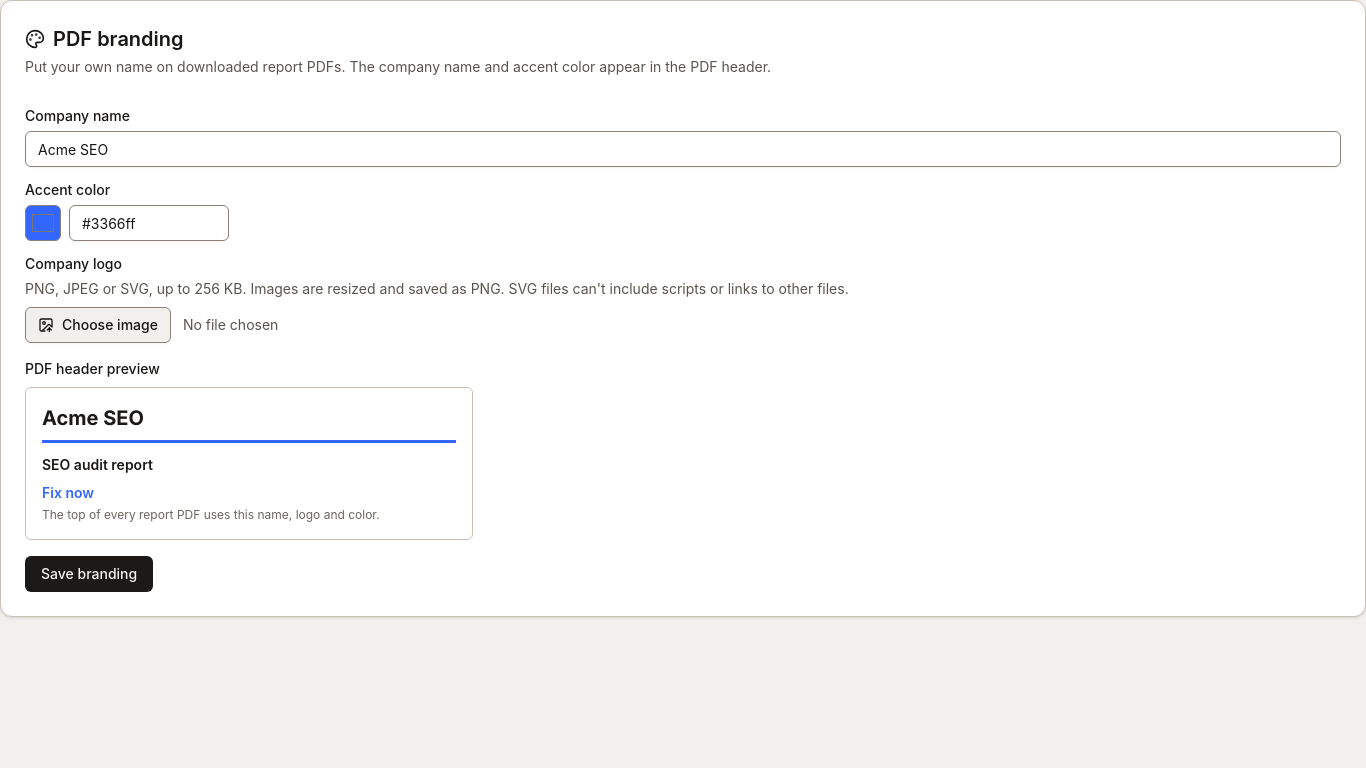
Test case: BrandingPanel › validates the accent color before submitting
Expected: the field showing "Acme SEO" is shown, x1=25 y1=131 x2=1341 y2=167
Replace the text in the field labelled "Accent color" with "#zzz" at [149, 223], box x1=69 y1=205 x2=229 y2=241
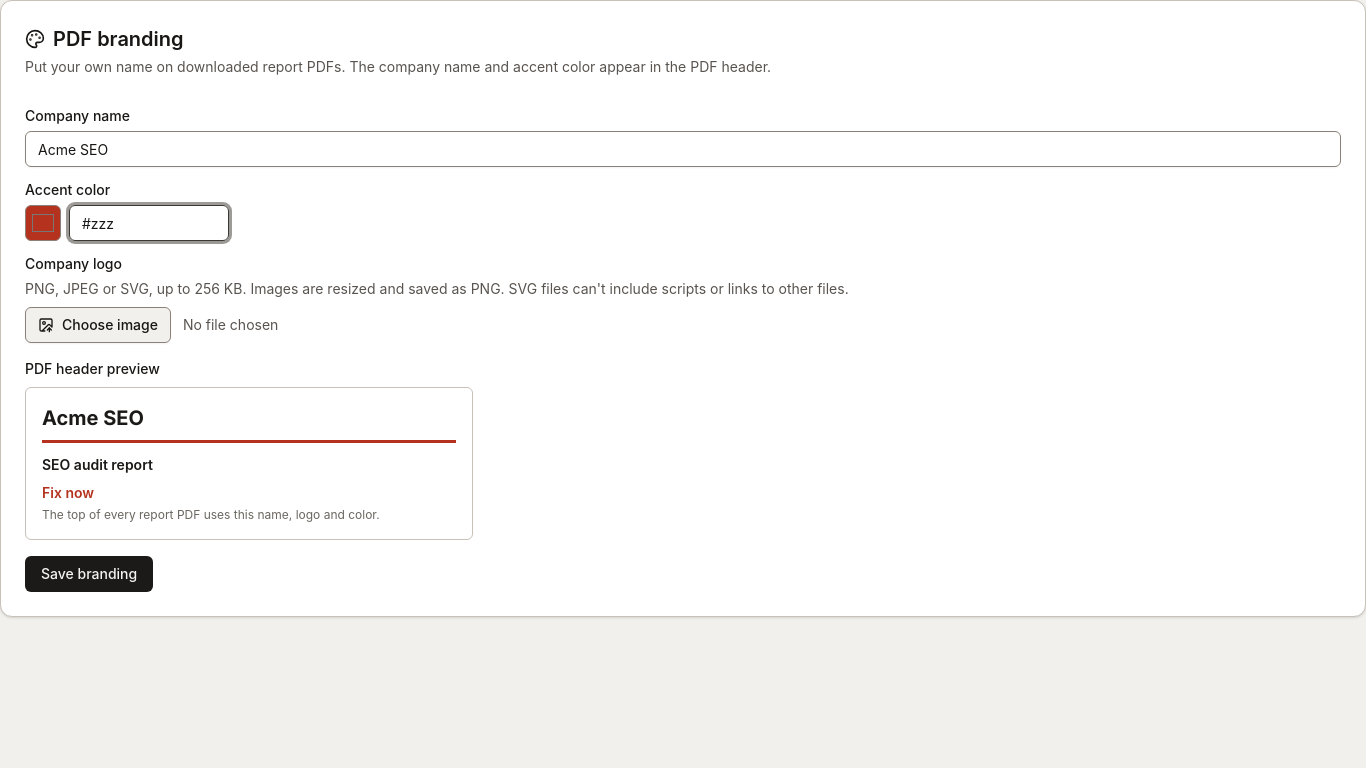
Click the button "Save branding" at [89, 574], box x1=25 y1=556 x2=153 y2=592
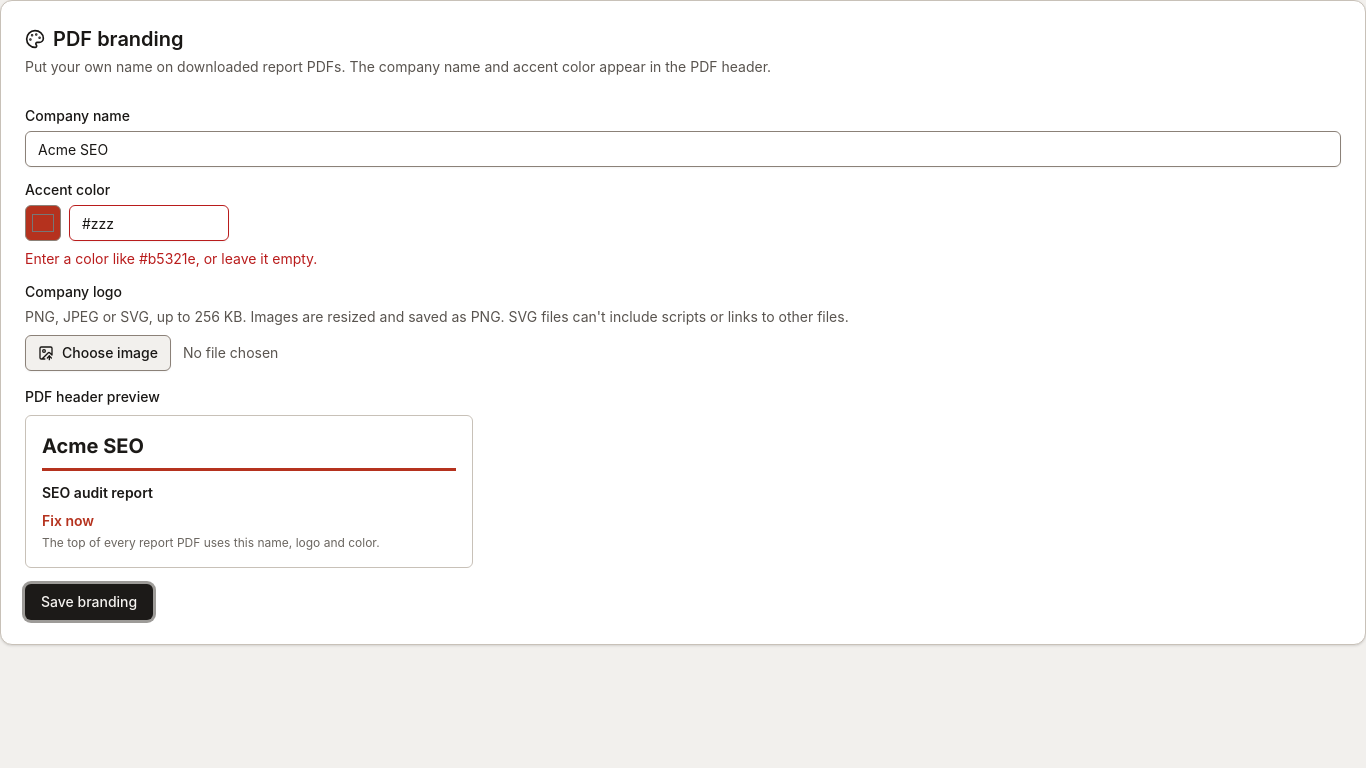
Now the text "Enter a color like #b5321e, or leave it empty." is shown, box x1=25 y1=250 x2=317 y2=267
